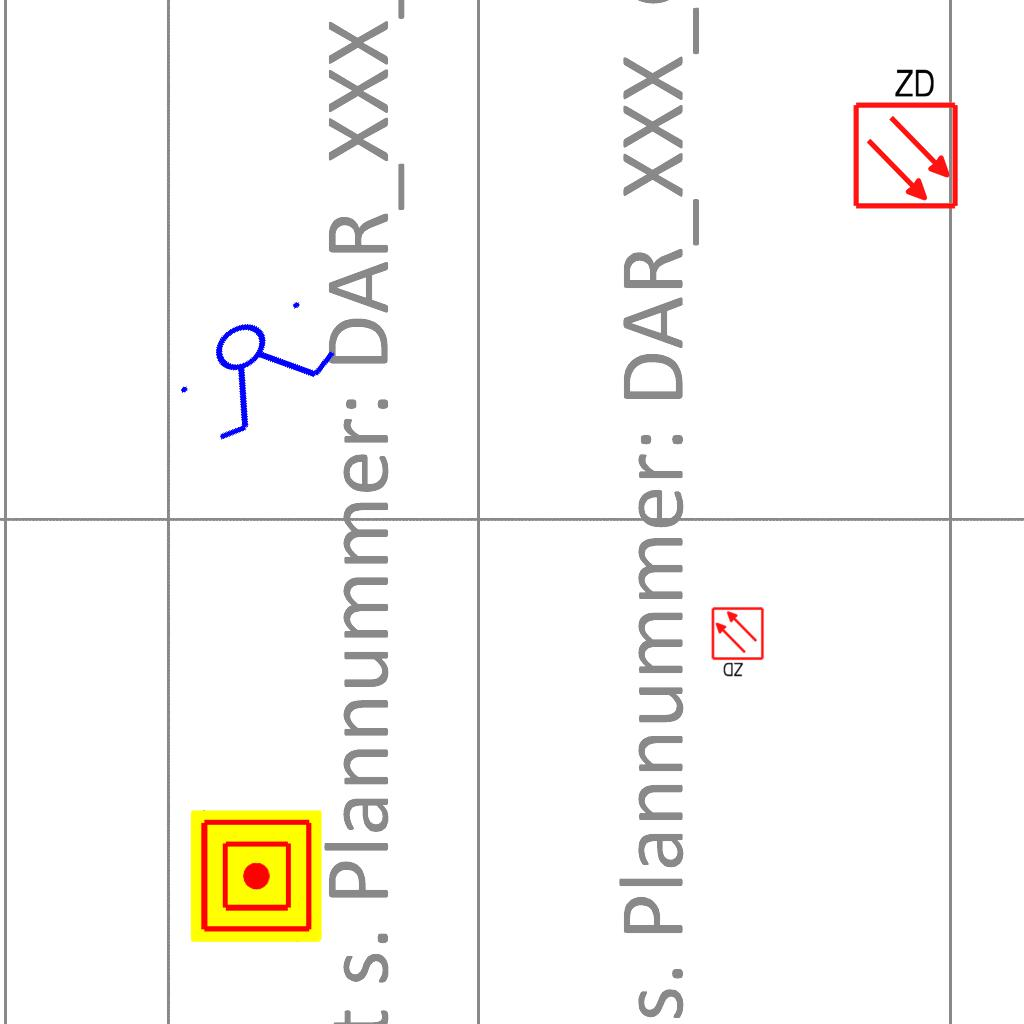NAM-Nichtautomatischer_Melder: (190, 810, 322, 942)
Serienschalter: (161, 278, 353, 456)
ZD_Melder_in_Zwischendecke_mit_Revisionsoeffnung_mind_40_x_40_cm: (847, 62, 961, 211), (710, 606, 767, 680)
